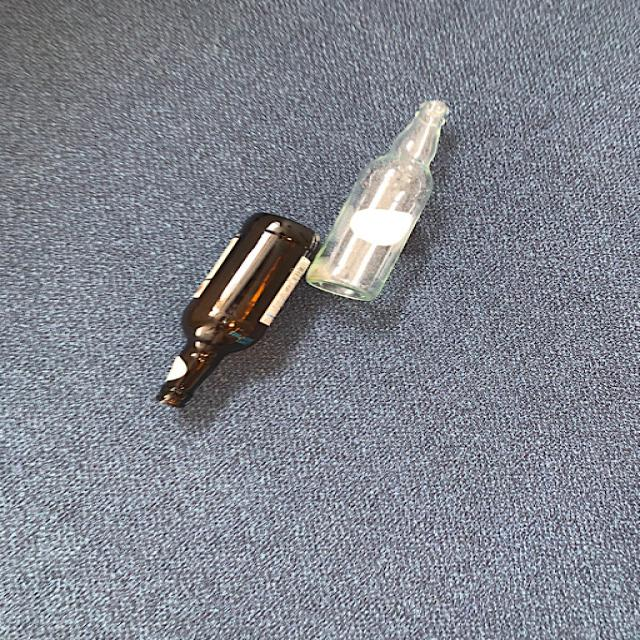litter: (141, 210, 325, 417), (310, 96, 454, 308)
